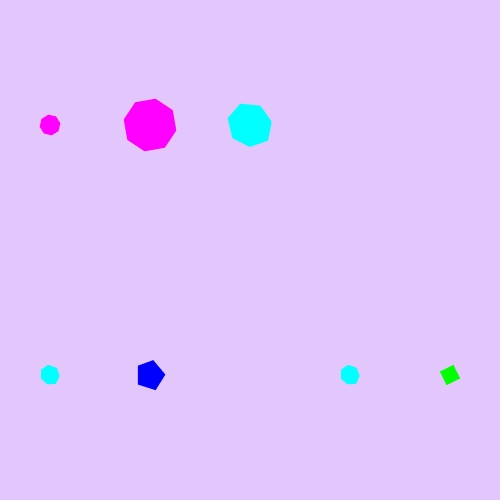heptagon: (224, 100, 276, 150), (36, 361, 65, 389), (336, 361, 365, 389)
octagon: (120, 95, 181, 156), (35, 110, 65, 140)
pentagon: (132, 357, 169, 394)
quadrilateral: (435, 360, 465, 390)
